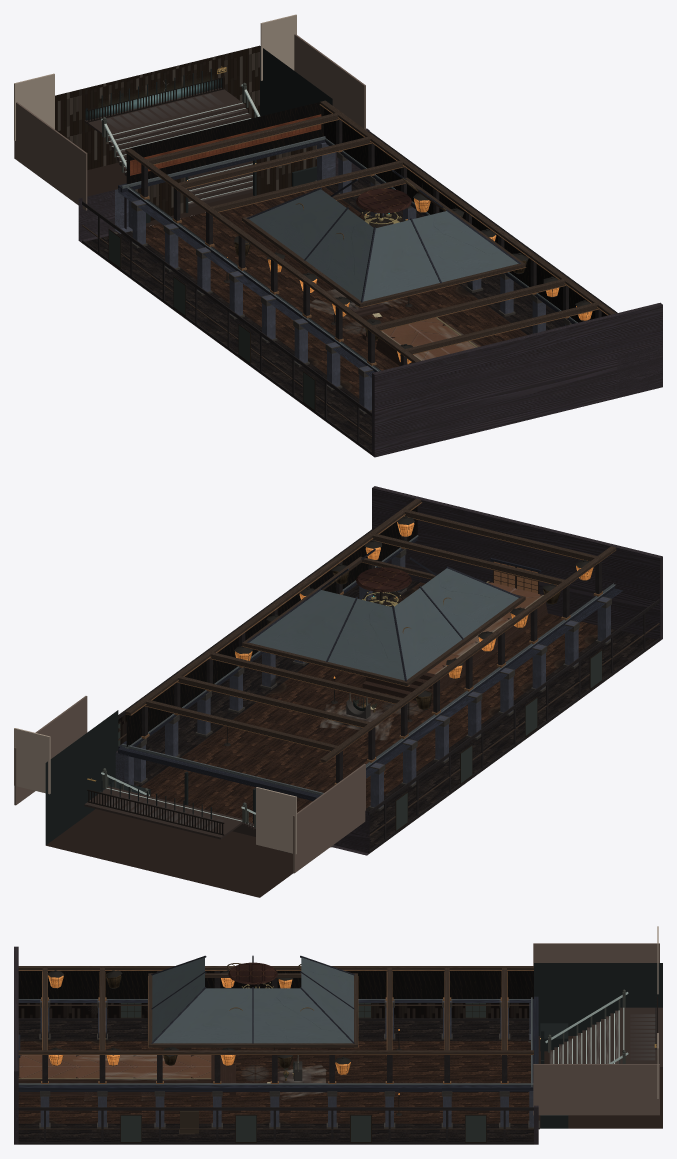
Rendered from haunted-mansion-1.lod1.glb.
The picture shows the model from 3 angles, top to bottom: view 1: azimuth 30°, elevation 25°; view 2: azimuth 150°, elevation 25°; view 3: azimuth 270°, elevation 25°; orthographic projection. The views are drawn at different scales.
Visible parts, largest first — view 1: object 18, object 96, object 22, object 6, object 7, void-cap (×2), object 75, object 15, object 98, object 80, object 12, object 14 (+17 smaller); view 2: object 6, object 18, object 96, object 22, object 7, object 77, void-cap (×2), object 12, object 98, object 74, object 14, object 15 (+14 smaller); view 3: object 6, object 22, object 7, object 96, void-cap, object 15, object 74, object 98, object 14, object 80, object 8, object 12 (+20 smaller).
Part boxes in pixels (x1=…): object 18: x1=78, y1=128, x2=662, y2=457; object 96: x1=82, y1=100, x2=615, y2=437; object 22: x1=249, y1=185, x2=518, y2=301; object 6: x1=82, y1=186, x2=526, y2=440; object 7: x1=81, y1=176, x2=564, y2=454; void-cap (×2): x1=14, y1=14, x2=365, y2=210; object 75: x1=55, y1=45, x2=316, y2=220; object 15: x1=126, y1=102, x2=606, y2=322; object 98: x1=82, y1=119, x2=616, y2=454; object 80: x1=84, y1=87, x2=252, y2=207; object 12: x1=115, y1=142, x2=566, y2=411; object 14: x1=118, y1=139, x2=575, y2=377; object 6: x1=141, y1=582, x2=659, y2=851; object 18: x1=115, y1=486, x2=662, y2=855; object 96: x1=118, y1=498, x2=659, y2=836; object 22: x1=249, y1=558, x2=518, y2=680; object 7: x1=134, y1=580, x2=659, y2=852; object 77: x1=46, y1=809, x2=293, y2=897; void-cap (×2): x1=14, y1=696, x2=365, y2=873; object 12: x1=115, y1=555, x2=610, y2=808; object 98: x1=118, y1=516, x2=659, y2=853; object 74: x1=45, y1=710, x2=118, y2=844; object 14: x1=118, y1=537, x2=622, y2=800; object 15: x1=126, y1=506, x2=417, y2=747; object 6: x1=18, y1=1041, x2=530, y2=1123; object 22: x1=152, y1=957, x2=353, y2=1043; object 7: x1=18, y1=1020, x2=533, y2=1144; object 96: x1=18, y1=966, x2=533, y2=1129; void-cap: x1=533, y1=943, x2=659, y2=1115; object 15: x1=18, y1=971, x2=533, y2=998; object 74: x1=534, y1=963, x2=662, y2=1035; object 98: x1=18, y1=971, x2=533, y2=1144; object 14: x1=18, y1=996, x2=538, y2=1091; object 80: x1=549, y1=1007, x2=662, y2=1068; object 8: x1=18, y1=1055, x2=211, y2=1078; object 12: x1=40, y1=1000, x2=533, y2=1127.
Size of what is drawn, in the model's own units: 19 by 8.02 by 41.8.
103 materials, 50 textured.
